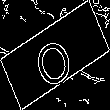O_NW: (31, 23, 79, 87)
